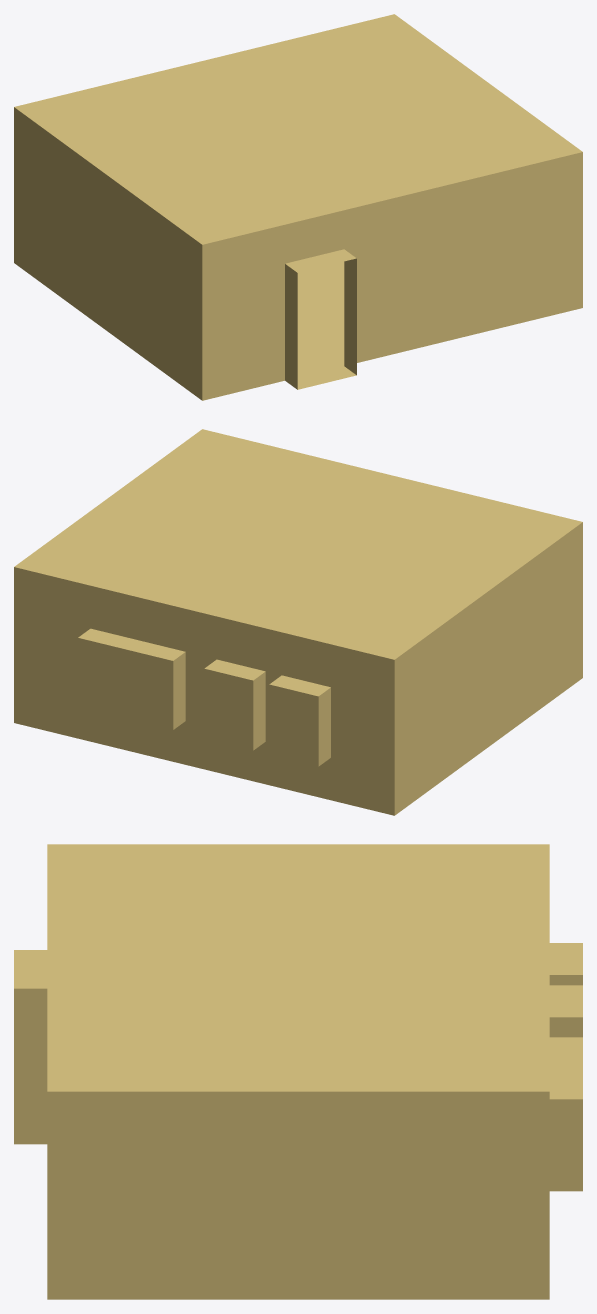
The model's file is Стены.fbx.
3 views of the same model, one above another, from view 1: azimuth 30°, elevation 25°; view 2: azimuth 150°, elevation 25°; view 3: azimuth 270°, elevation 25° (orthographic). The views are drawn at different scales.
Visible parts, largest first — view 1: Стены; view 2: Стены; view 3: Стены.
Boxes of the visible parts, x1,y1,x2,y2 form: Стены: (14, 14, 582, 400); Стены: (14, 429, 582, 815); Стены: (14, 844, 582, 1299).
Bounding box in the file's own units: 817 × 320 × 794.
